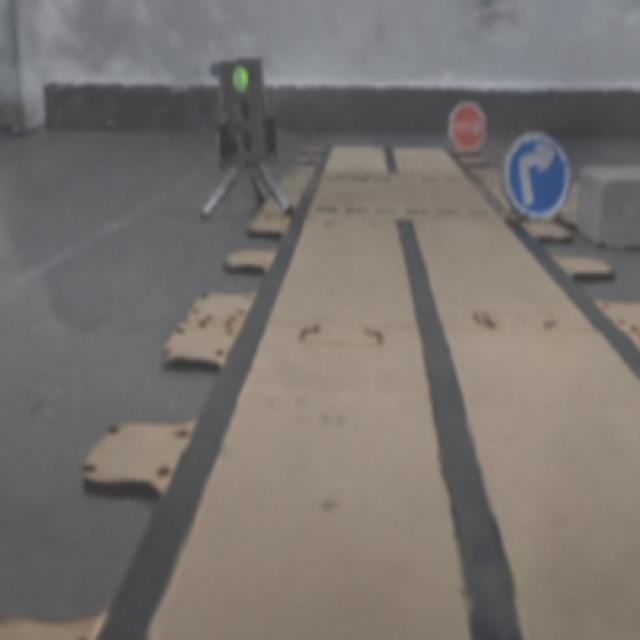RIGHT: (504, 134, 569, 217)
STOP: (448, 101, 485, 150)
